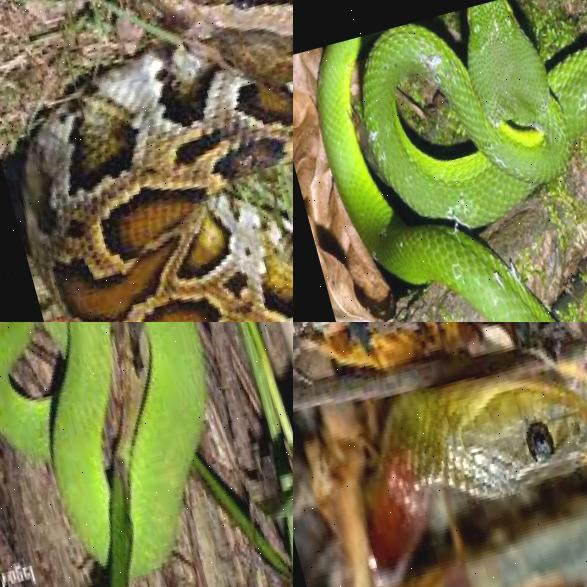snake: (0, 0, 293, 322), (296, 0, 587, 322), (0, 322, 293, 587), (293, 335, 587, 587)
